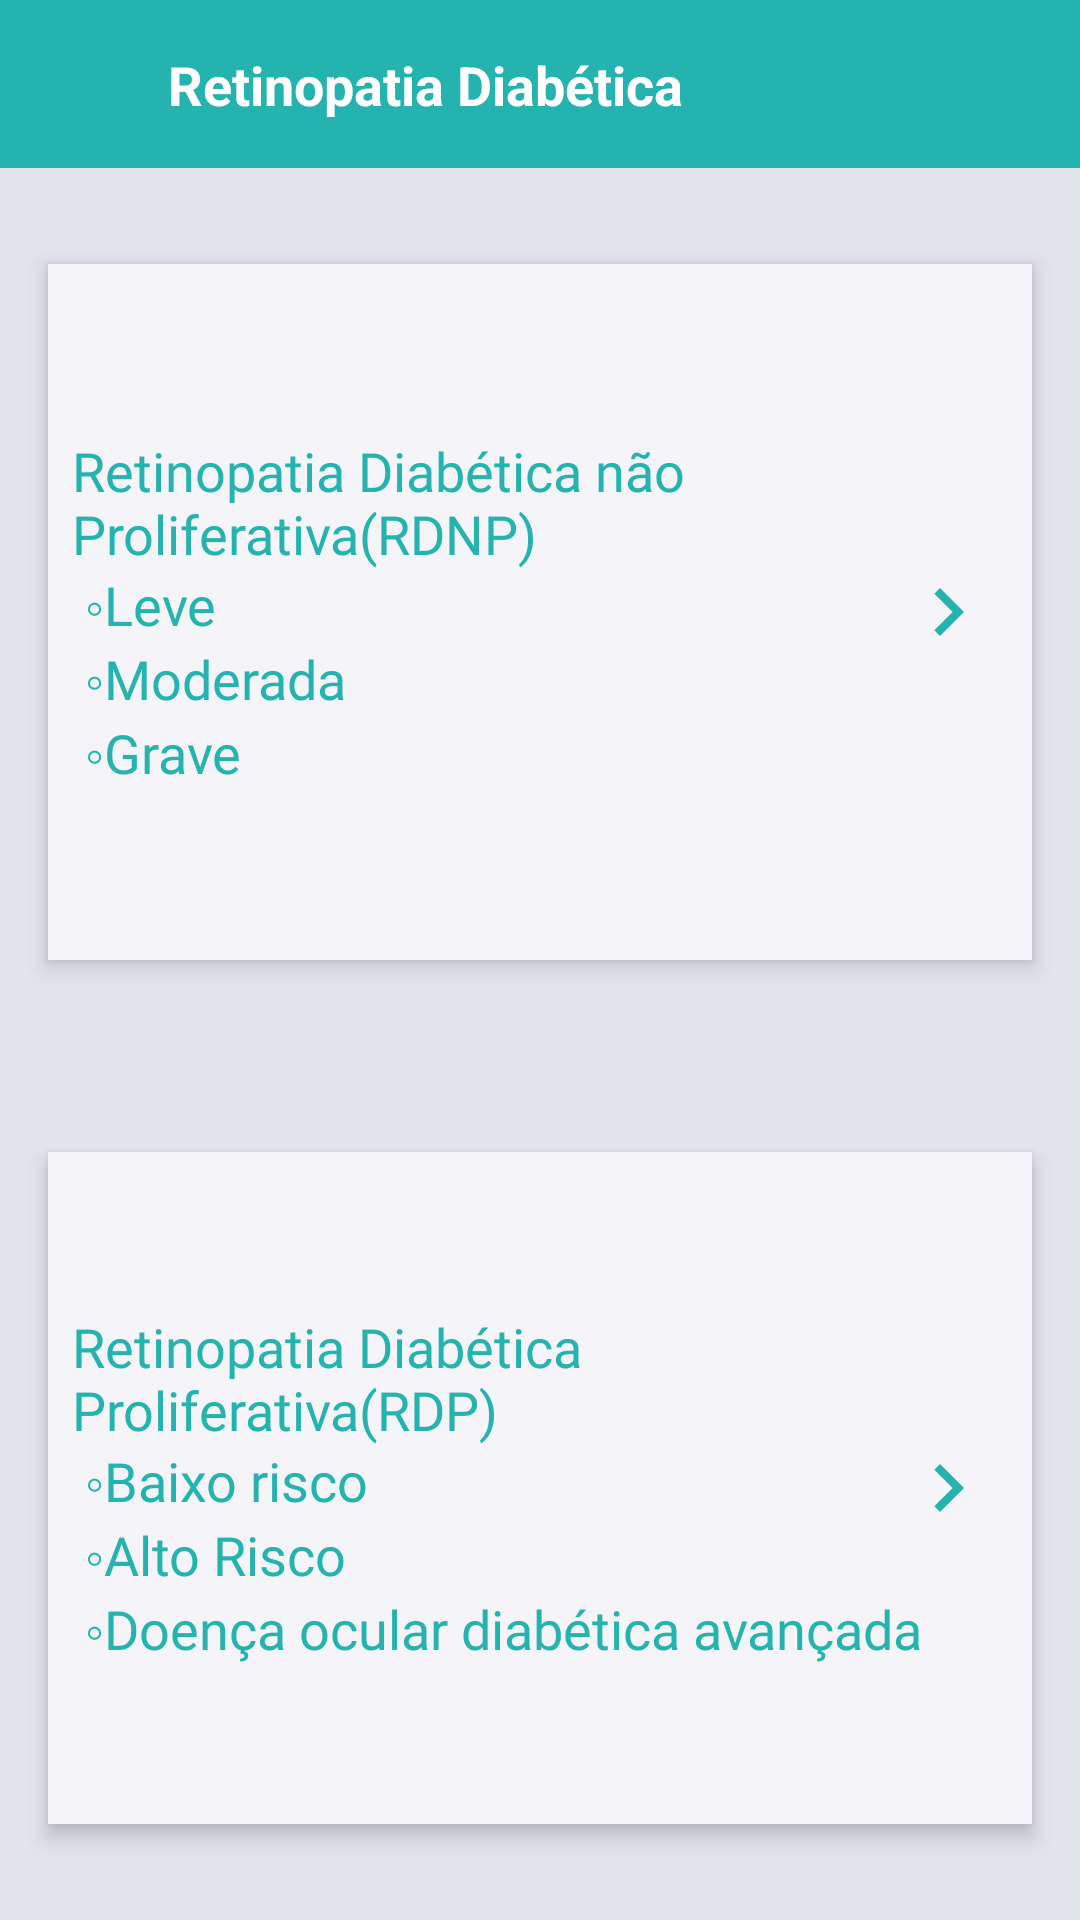

Icons on this 1080w x 1920h Android screen, each with its box as bbox=[x1, y1, x2, y2]:
keyboard arrow right: bbox=[934, 588, 964, 636], bbox=[934, 1464, 964, 1512]
